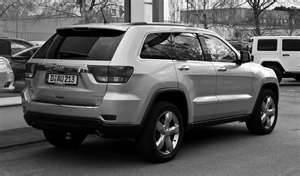car: (20, 23, 280, 164)
